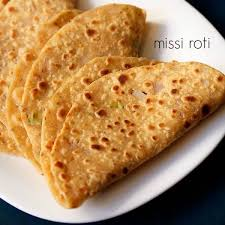roti: (51, 53, 225, 208), (23, 3, 139, 154), (1, 1, 67, 154)
